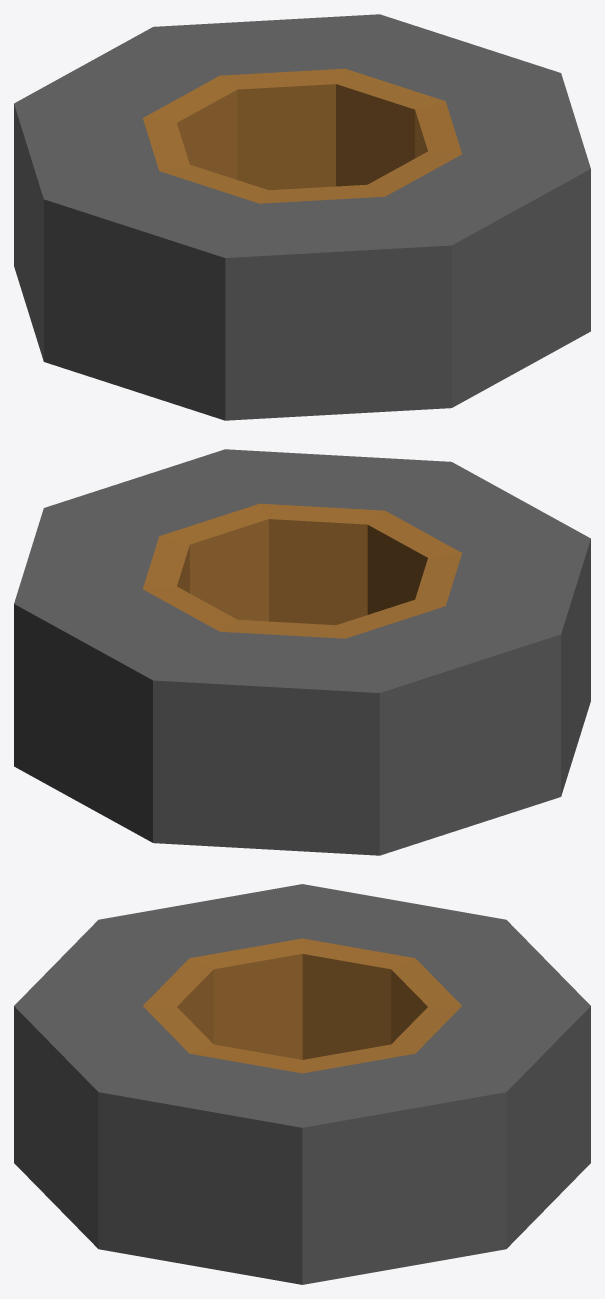
The model's file is TestDucttape.fbx.
3 views of the same model, one above another, from view 1: azimuth 30°, elevation 25°; view 2: azimuth 150°, elevation 25°; view 3: azimuth 270°, elevation 25° (orthographic). The views are drawn at different scales.
Visible parts, largest first — view 1: Cylinder; view 2: Cylinder; view 3: Cylinder.
Boxes of the visible parts, bbox=[...] form: Cylinder: bbox=[14, 14, 590, 420]; Cylinder: bbox=[14, 449, 590, 855]; Cylinder: bbox=[14, 884, 590, 1284].
Bounding box in the file's own units: 16.54 × 4.97 × 16.54.
1 material, 1 textured.
